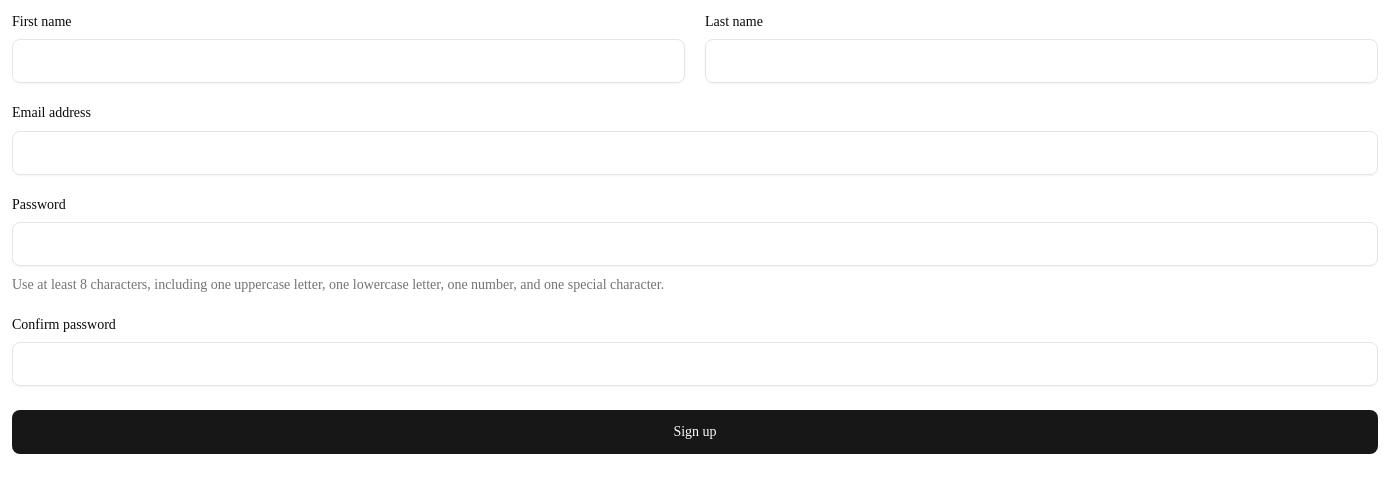
SignUpForm › shows an inline error when passwords do not match
Type "Ada" into the field labelled "First name" at {"x": 348, "y": 61}, box x1=12 y1=39 x2=685 y2=83
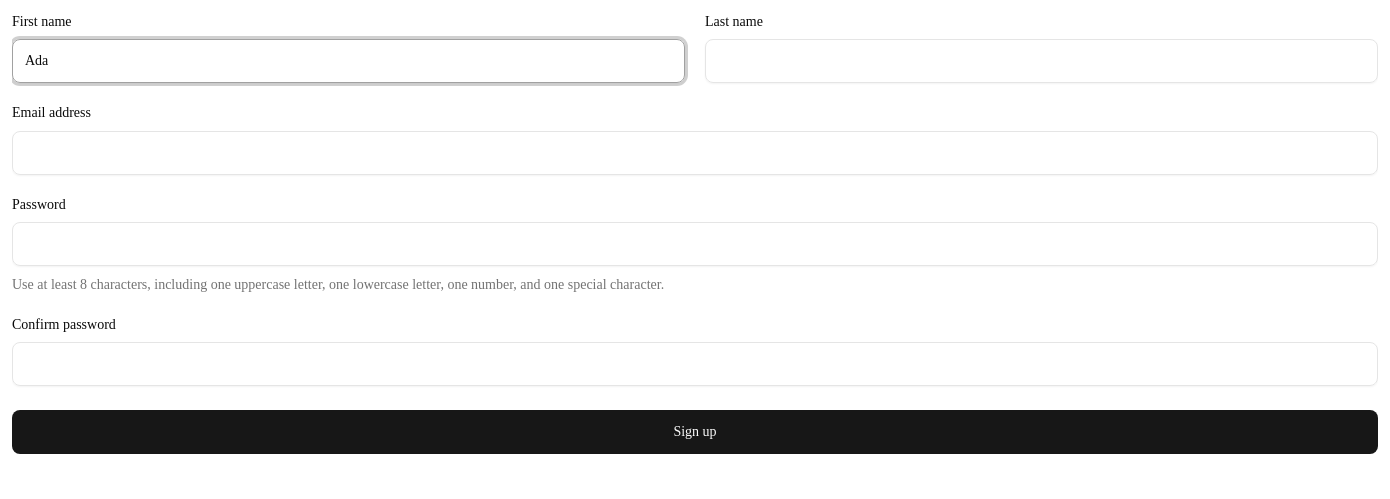
Type "Lovelace" into the field labelled "Last name" at {"x": 1042, "y": 61}, box x1=705 y1=39 x2=1378 y2=83
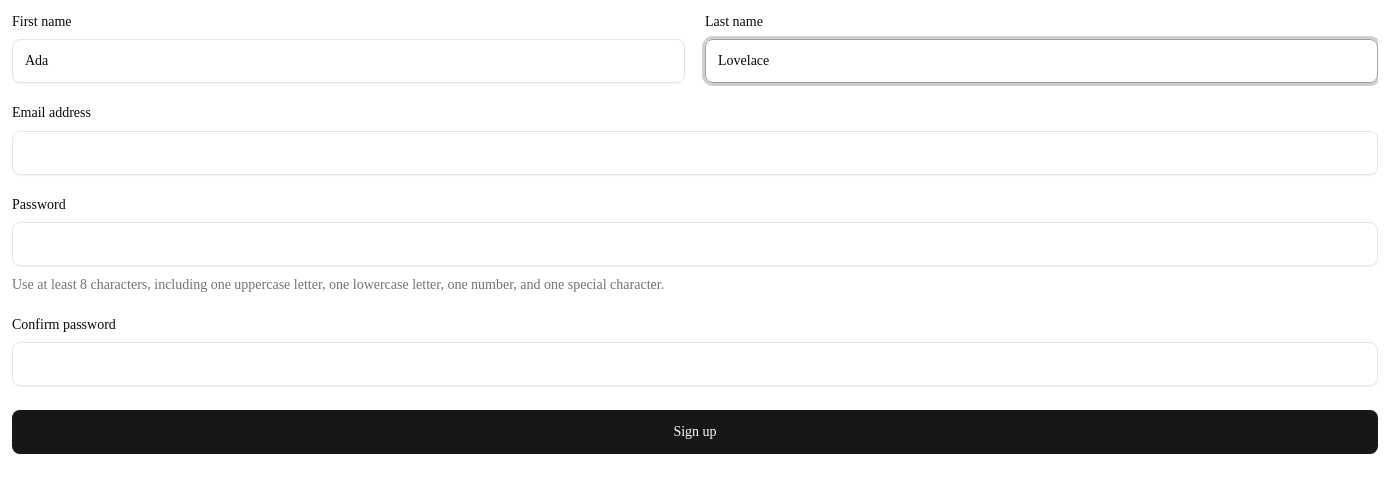
Type "ada@example.com" into the field labelled "Email address" at {"x": 695, "y": 152}, box x1=12 y1=130 x2=1378 y2=174
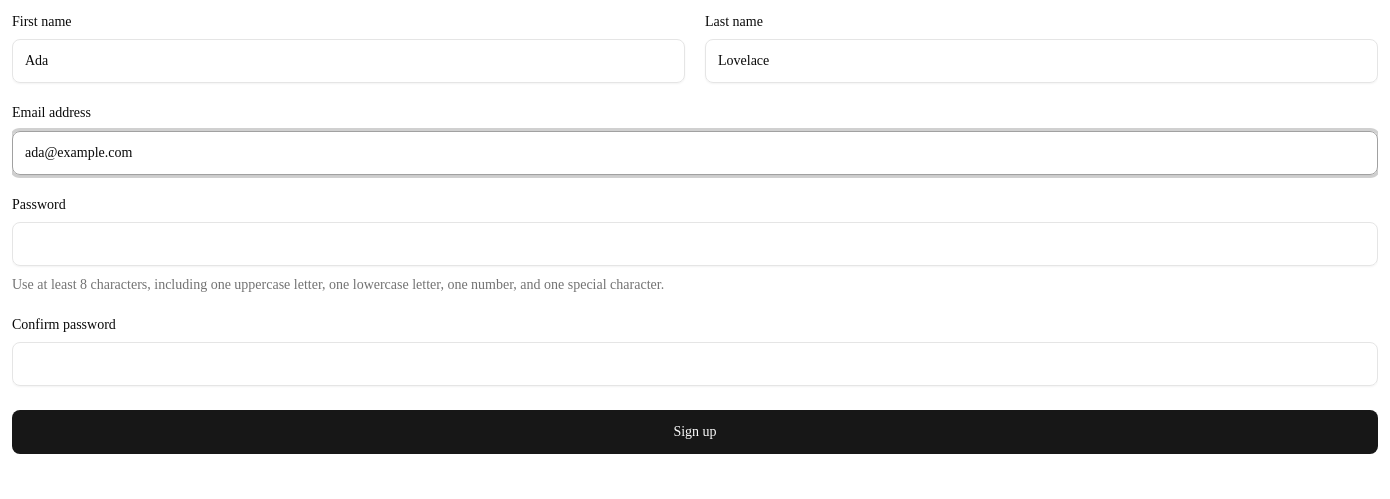
Type "Password1!" into the password field labelled "Password" at {"x": 695, "y": 244}, box x1=12 y1=222 x2=1378 y2=266
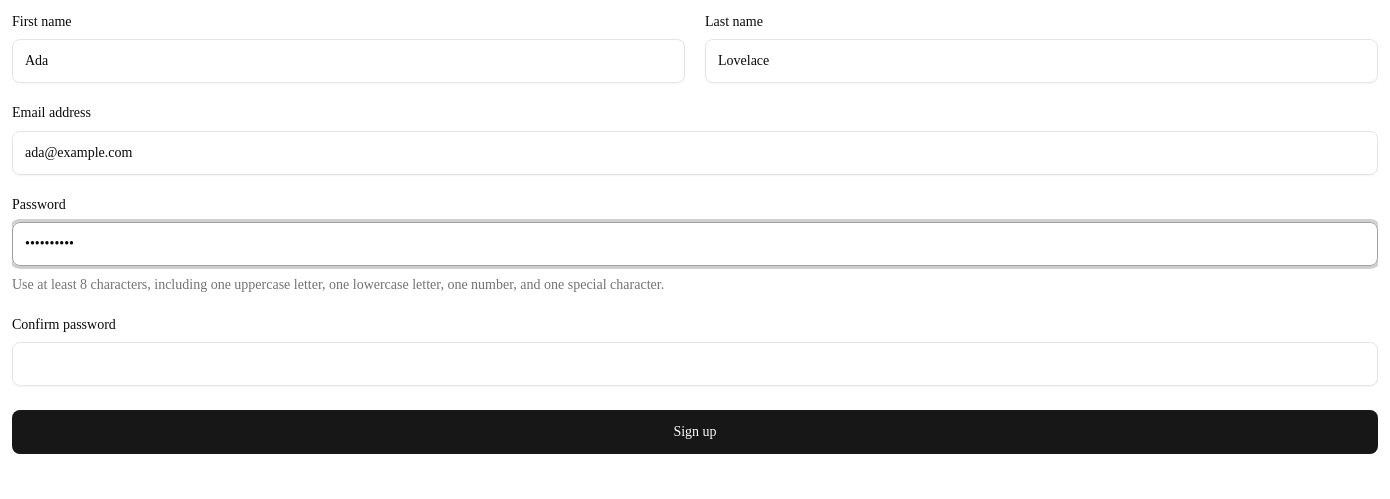
Type "Password1?" into the password field labelled "Confirm password" at {"x": 695, "y": 364}, box x1=12 y1=342 x2=1378 y2=386
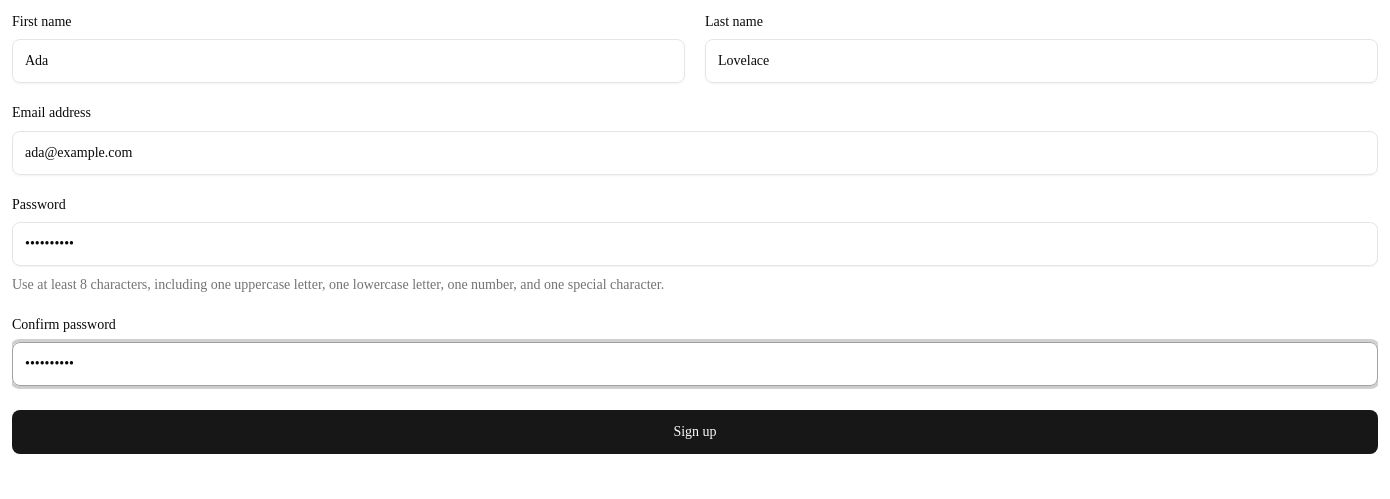
Click the button "Sign up" at {"x": 695, "y": 432}, box x1=12 y1=410 x2=1378 y2=454
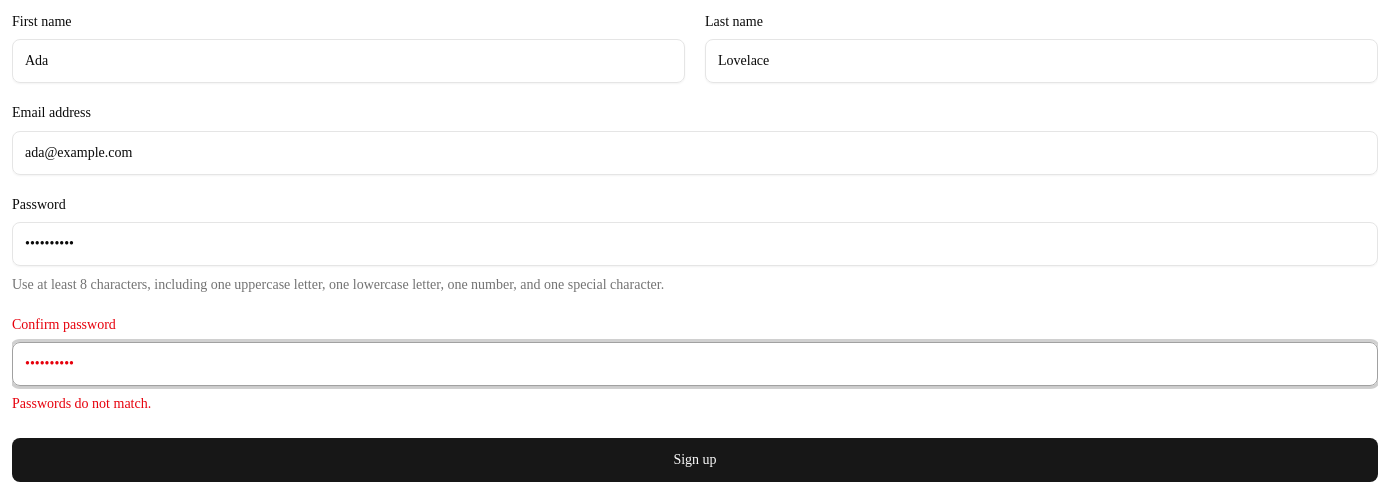
Result: the text "Passwords do not match." is shown at x1=12 y1=396 x2=151 y2=411
